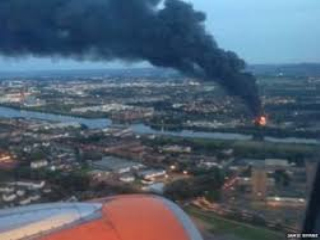fire: (249, 113, 269, 132)
smoke: (109, 7, 278, 108)
